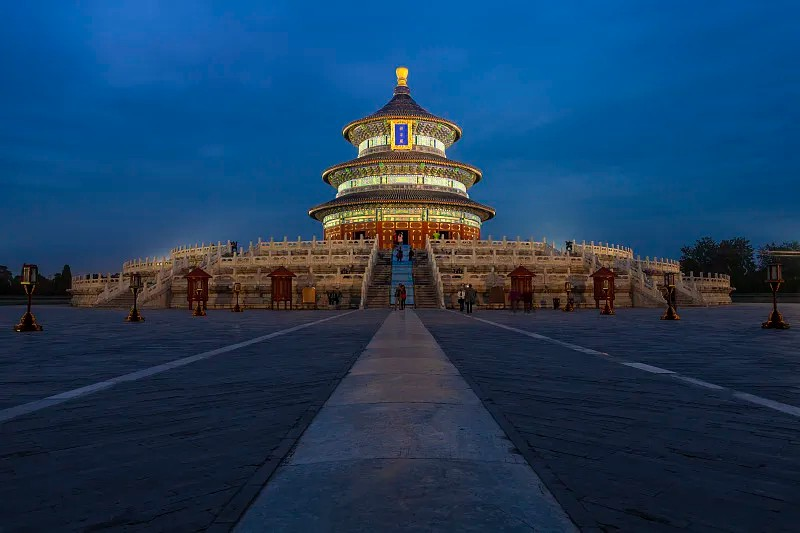Heaven: (306, 67, 497, 249)
